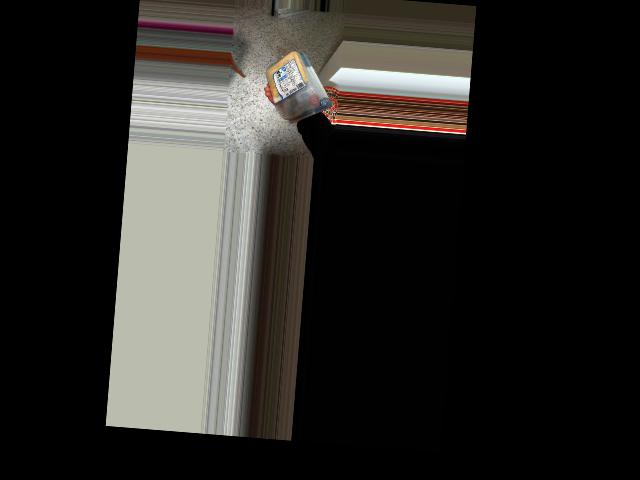cheese: (261, 44, 331, 125)
